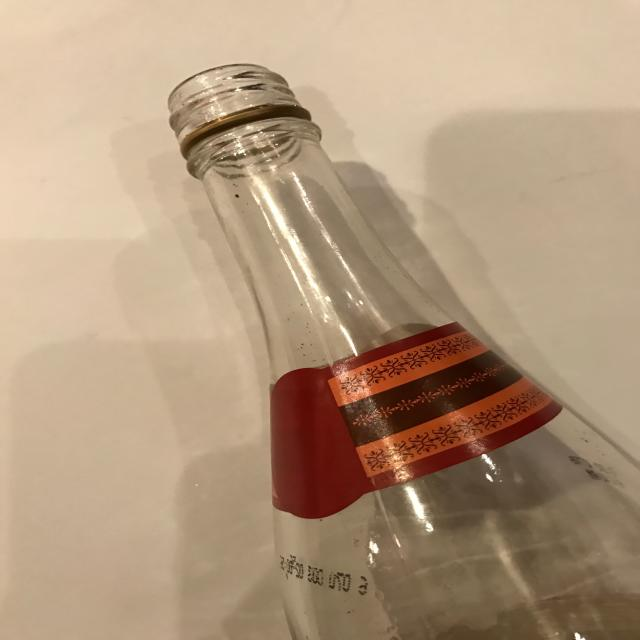glass: (167, 62, 639, 639)
